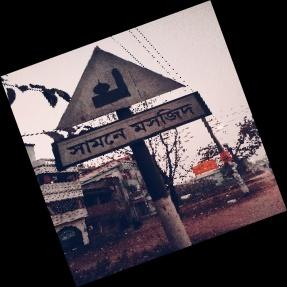Mosque in front: (51, 45, 205, 172)
